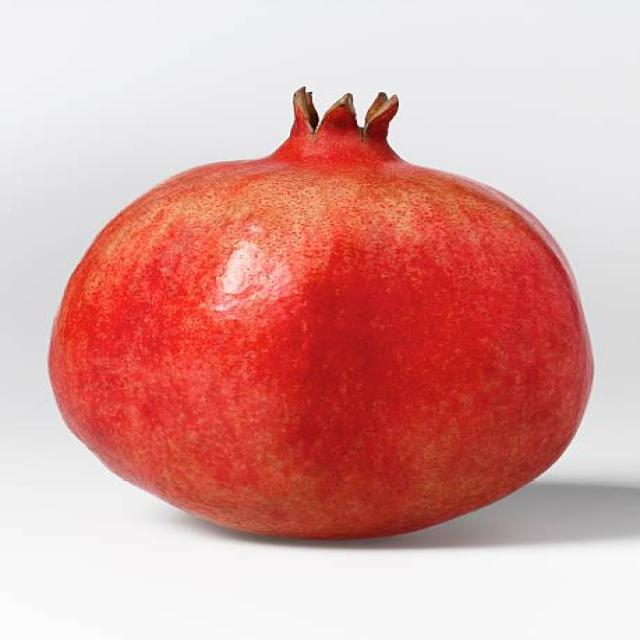Ripe: (44, 82, 600, 545)
